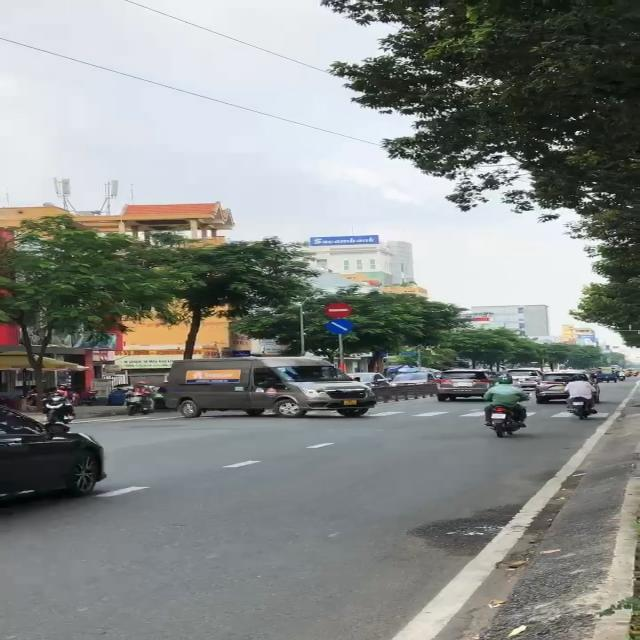Bien bao cam di nguoc chieu: (322, 301, 356, 318)
Bien bao huong phai di vong chuong ngai vat: (322, 318, 358, 336)
